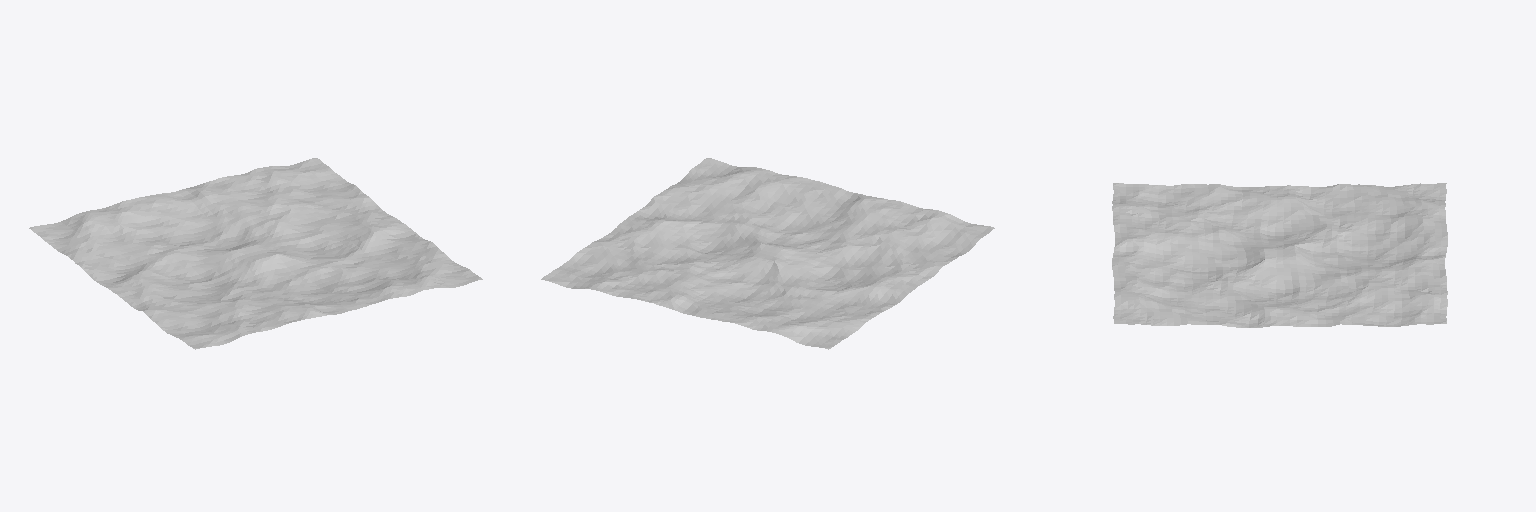
Rendered from sand.obj.
3 renders of one model, left to right at view 1: azimuth 30°, elevation 25°; view 2: azimuth 150°, elevation 25°; view 3: azimuth 270°, elevation 25°, orthographic.
Parts seen in each view (by area): view 1: Plane; view 2: Plane; view 3: Plane.
Boxes of the visible parts, x1=… form: Plane: x1=29, y1=158, x2=482, y2=349; Plane: x1=541, y1=158, x2=994, y2=349; Plane: x1=1112, y1=183, x2=1447, y2=327.
Size of the model in its own units: 320 by 14.61 by 320.